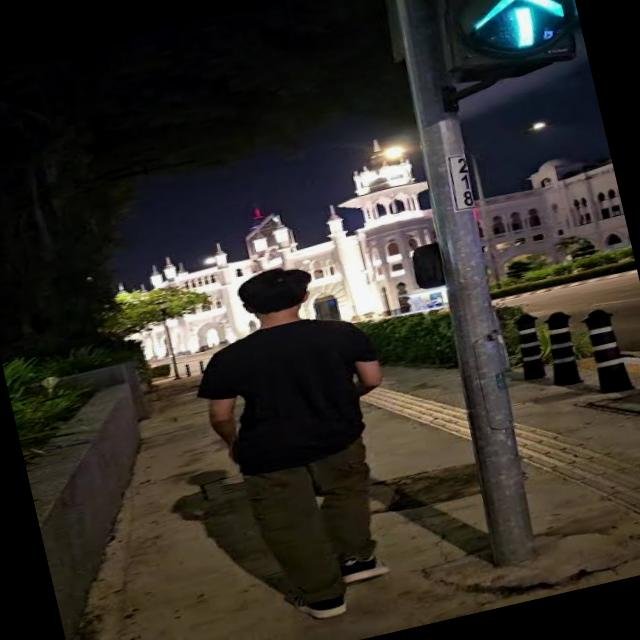Person: (168, 245, 447, 640)
